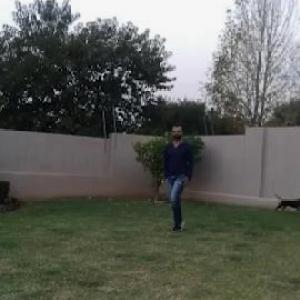follow: (162, 120, 194, 229)
